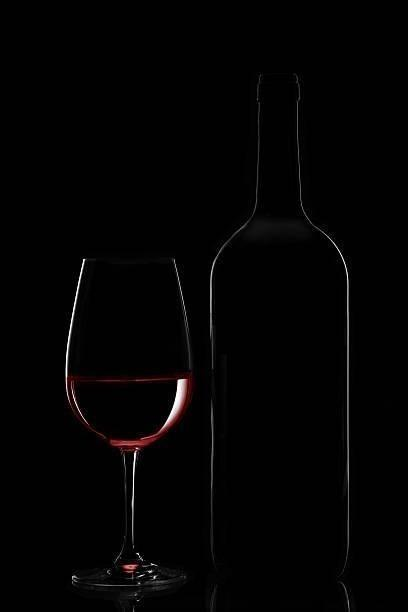bottle-glass: (205, 67, 354, 590)
glass-wine: (63, 252, 195, 593)
